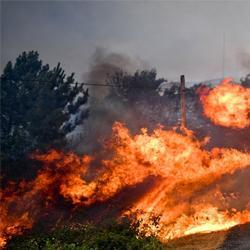fire: (122, 132, 212, 171), (158, 194, 216, 233), (207, 86, 250, 127), (62, 180, 121, 198)
